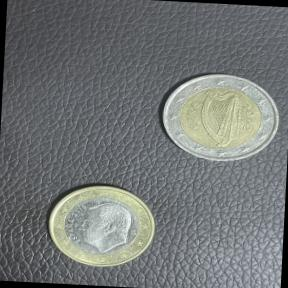coin: (150, 65, 286, 170), (41, 177, 163, 275)
